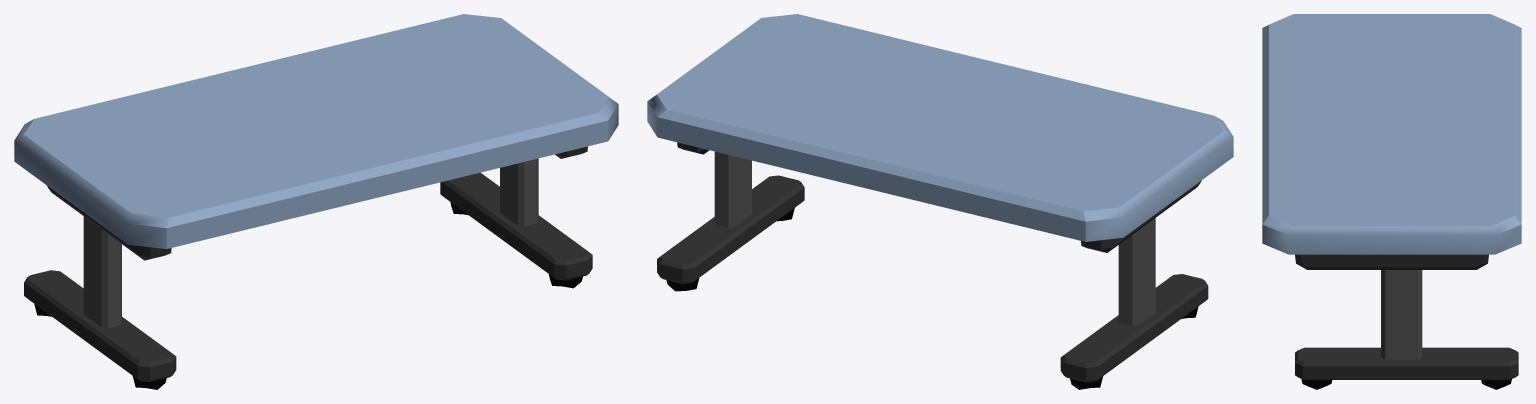
File: Desk 03.fbx
The picture shows the model from 3 angles, left to right: view 1: azimuth 30°, elevation 25°; view 2: azimuth 150°, elevation 25°; view 3: azimuth 270°, elevation 25°; orthographic projection. The views are drawn at different scales.
Parts seen in each view (by area): view 1: Desk_01; view 2: Desk_01; view 3: Desk_01.
Part boxes in pixels (box(x1,y1,x2,y2)): Desk_01: box(14, 14, 618, 389); Desk_01: box(647, 14, 1233, 389); Desk_01: box(1262, 14, 1521, 389).
Size of the model in its own units: 147 by 54.44 by 73.77.
